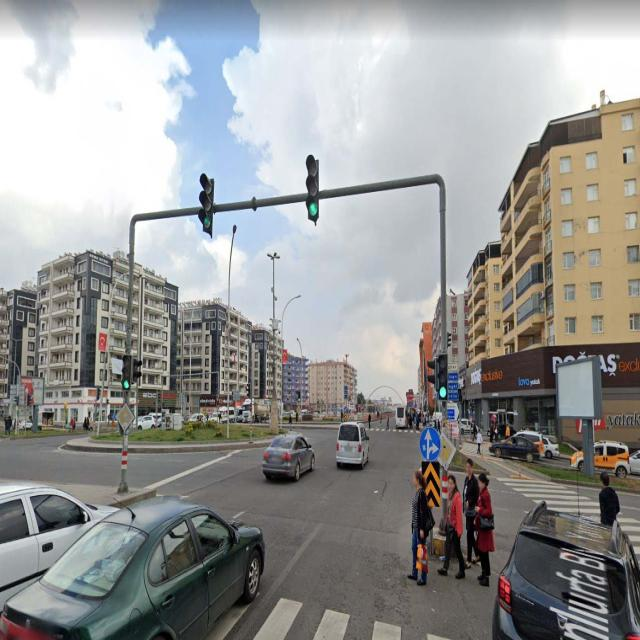ilerisag: (422, 427, 442, 459)
yesil: (306, 157, 320, 219), (202, 175, 212, 229), (438, 356, 448, 399), (123, 354, 131, 386)
